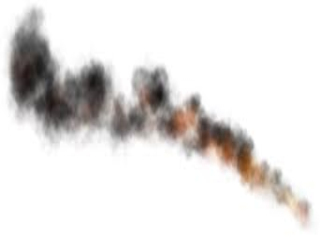smoke: (4, 27, 307, 217)
